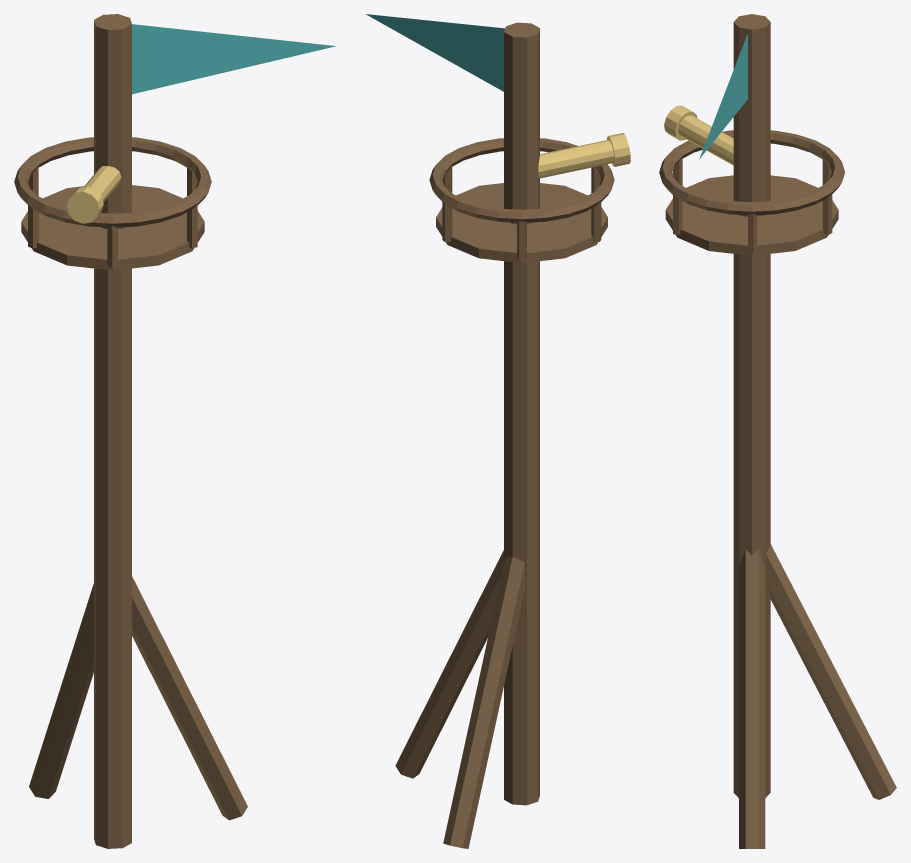
File: scout.glb
The picture shows the model from 3 angles, left to right: view 1: azimuth 30°, elevation 25°; view 2: azimuth 150°, elevation 25°; view 3: azimuth 270°, elevation 25°; orthographic projection. The views are drawn at different scales.
Parts seen in each view (by area): view 1: scout_mast, scout_nest; view 2: scout_mast, scout_nest; view 3: scout_mast, scout_nest.
Boxes of the visible parts, left/top/right/bottom form: scout_mast: left=29, top=14, right=247, bottom=848; scout_nest: left=14, top=24, right=336, bottom=270; scout_mast: left=395, top=22, right=539, bottom=848; scout_nest: left=365, top=14, right=630, bottom=263; scout_mast: left=733, top=14, right=896, bottom=848; scout_nest: left=659, top=33, right=844, bottom=255.
Bounding box in the file's own units: 0.23 × 0.6442 × 0.1789.
